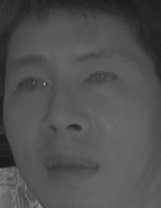eye: (80, 68, 122, 91), (11, 74, 50, 97)
mouth: (38, 149, 101, 185)
